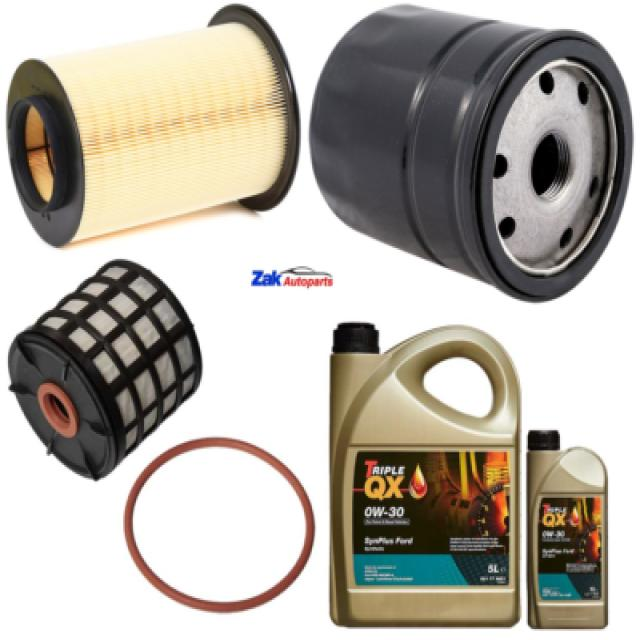motor_oil: (324, 318, 525, 630), (526, 426, 612, 632)
oil_filter: (309, 0, 640, 303), (0, 2, 306, 246), (0, 257, 202, 483)
